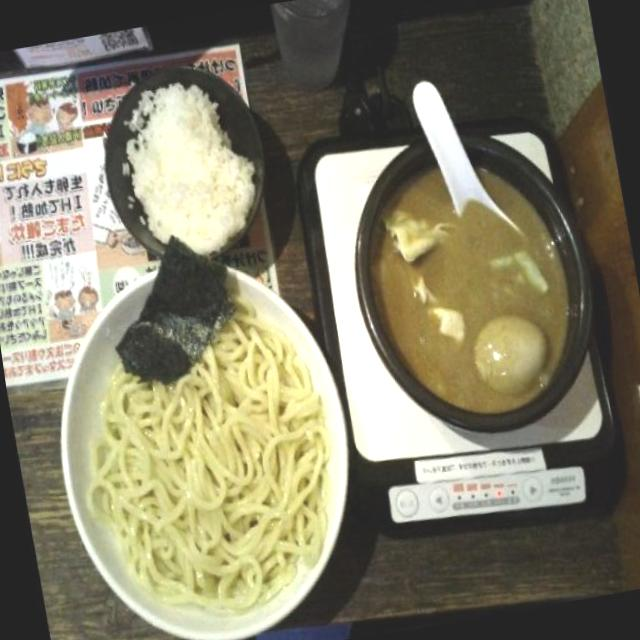Rice: (116, 84, 264, 265)
